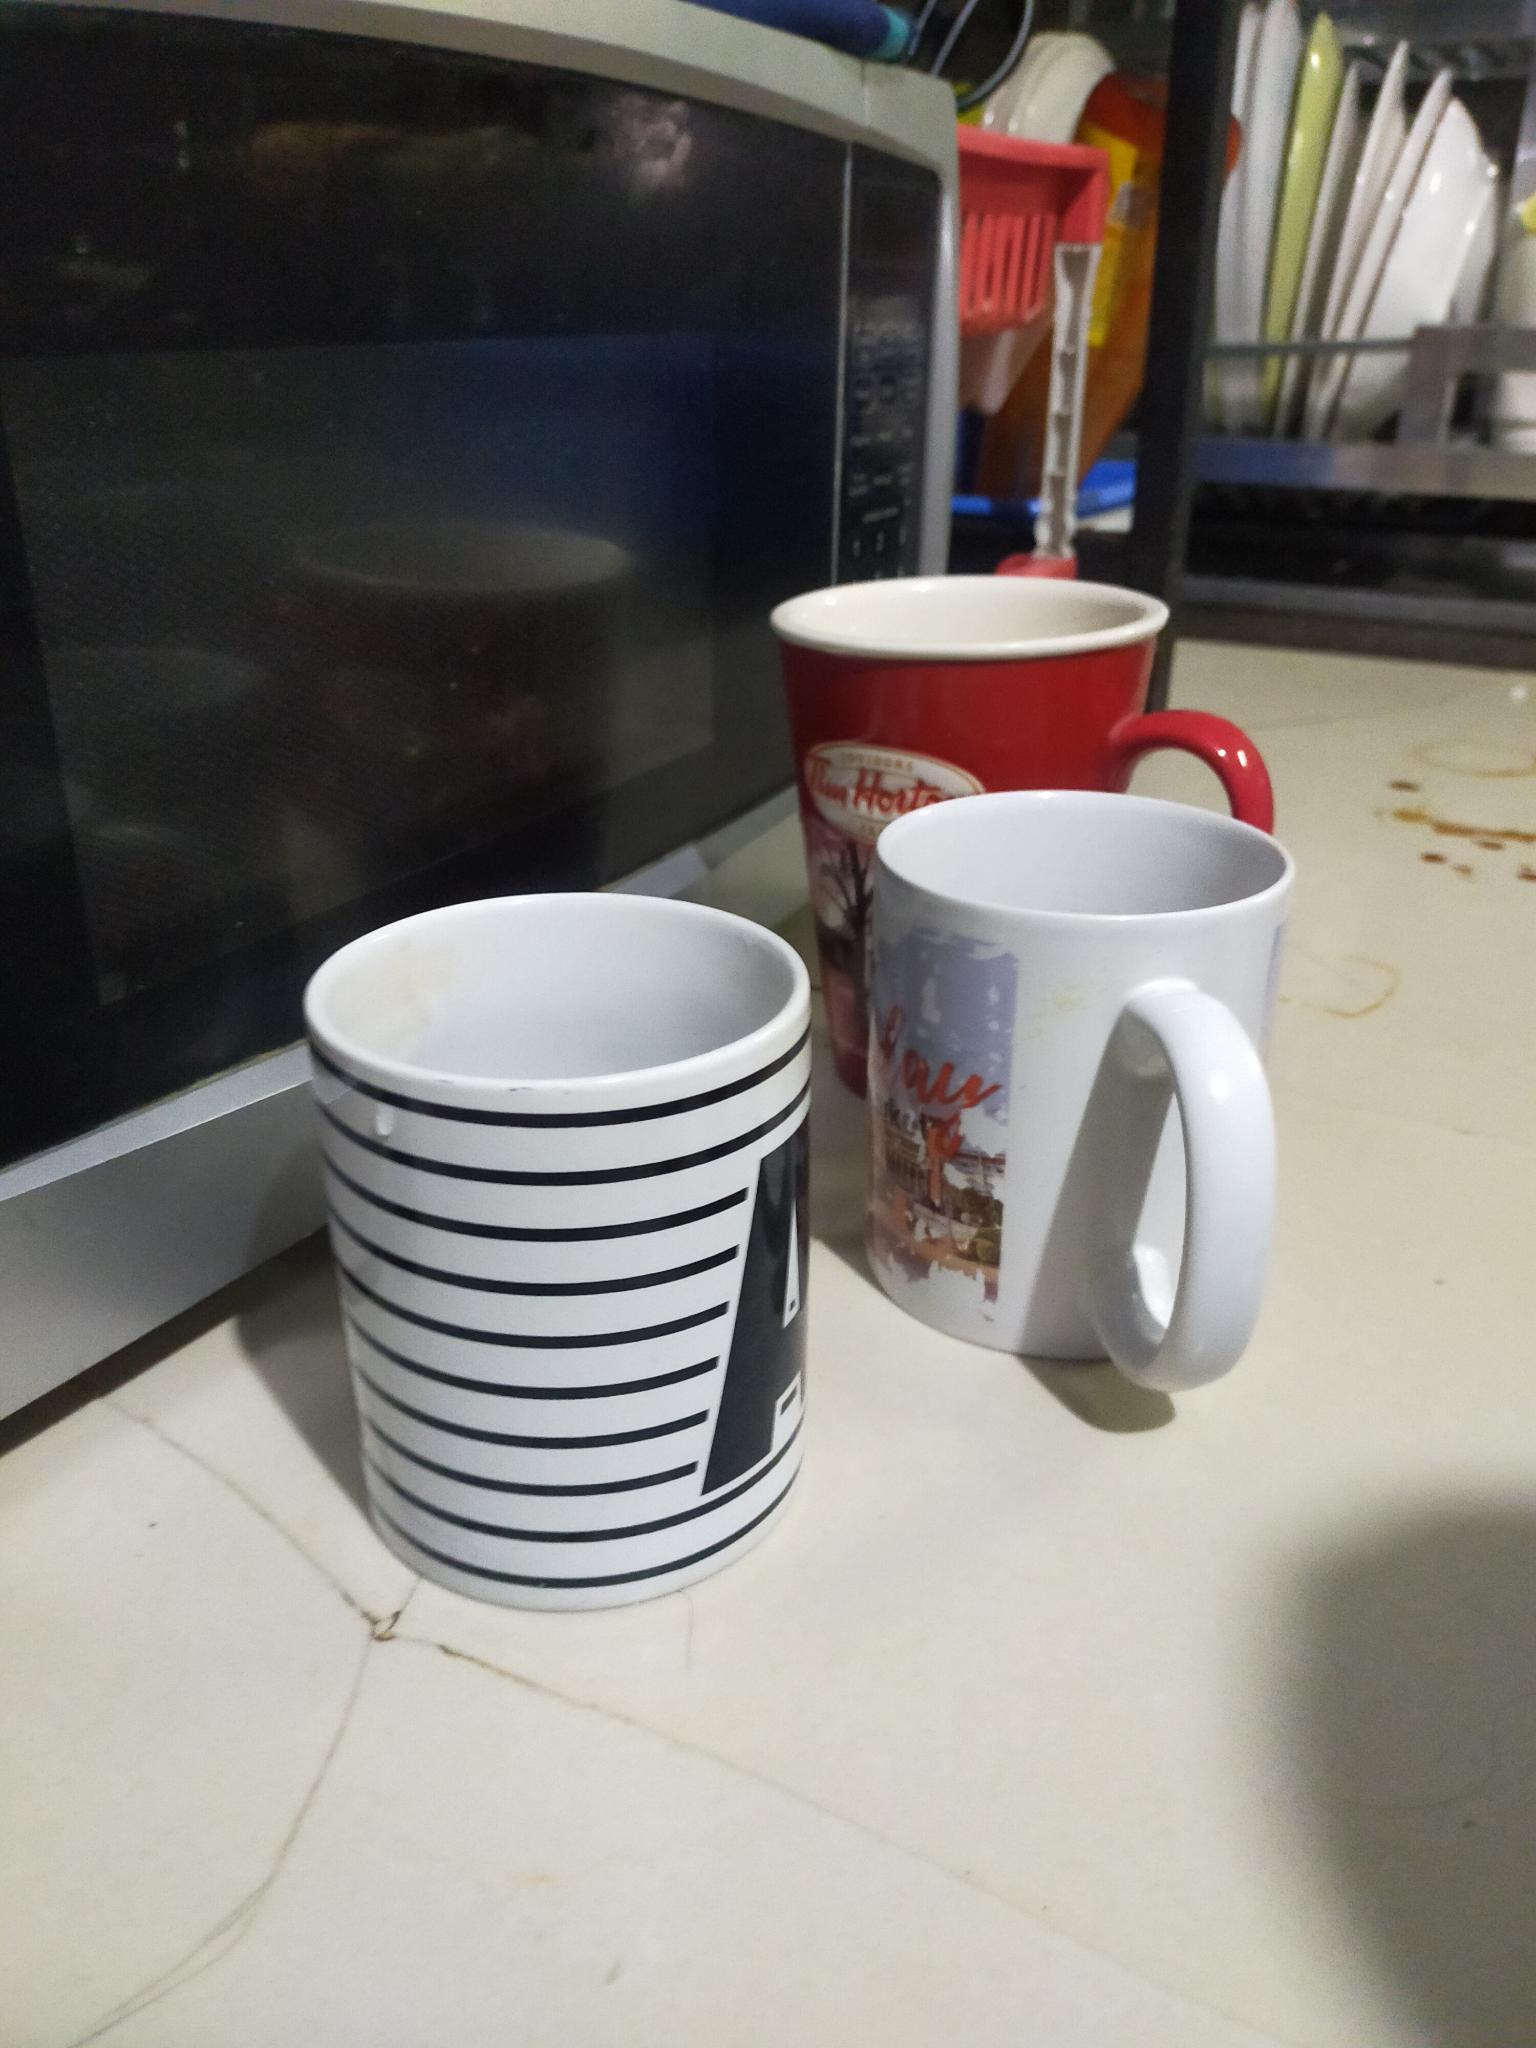Coffee Mug: (302, 893, 820, 1614), (789, 576, 1279, 1089), (876, 792, 1292, 1387)
